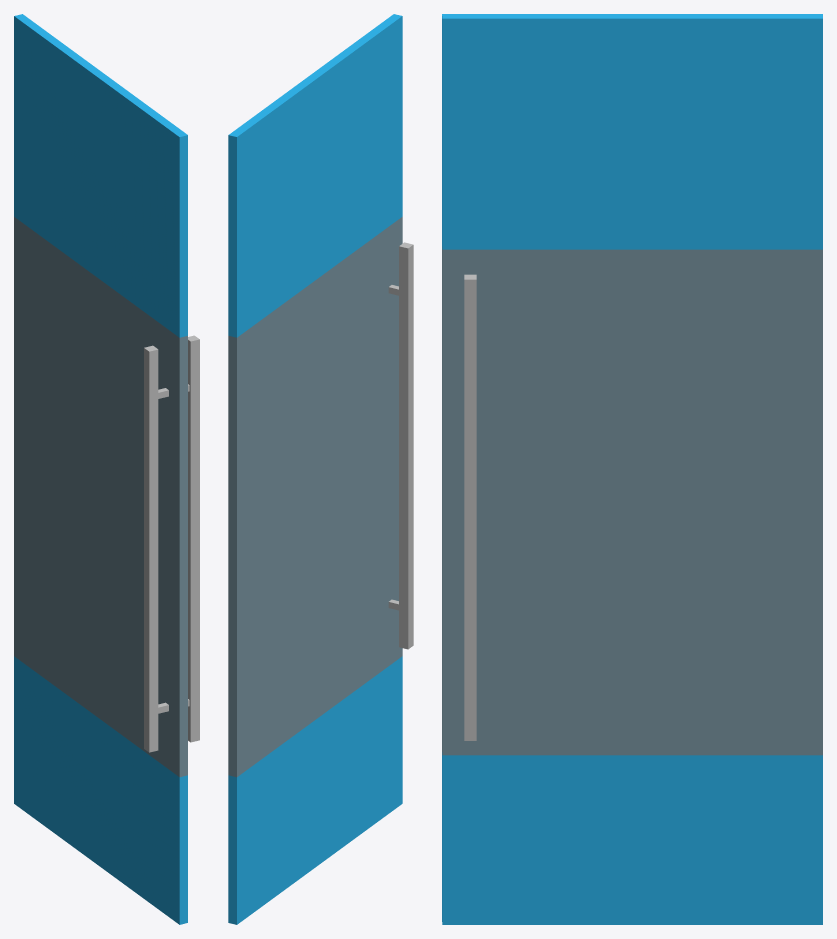
Rendered from sm_boli5.FBX.
3 renders of one model, left to right at view 1: azimuth 30°, elevation 25°; view 2: azimuth 150°, elevation 25°; view 3: azimuth 270°, elevation 25°, orthographic. The views are drawn at different scales.
Parts seen in each view (by area): view 1: sm_boli5; view 2: sm_boli5; view 3: sm_boli5.
Boxes of the visible parts, x1,y1,x2,y2 form: sm_boli5: [14, 14, 199, 924]; sm_boli5: [228, 14, 413, 924]; sm_boli5: [442, 14, 822, 924].
Bounding box in the file's own units: 17.32 × 258 × 98.25.
